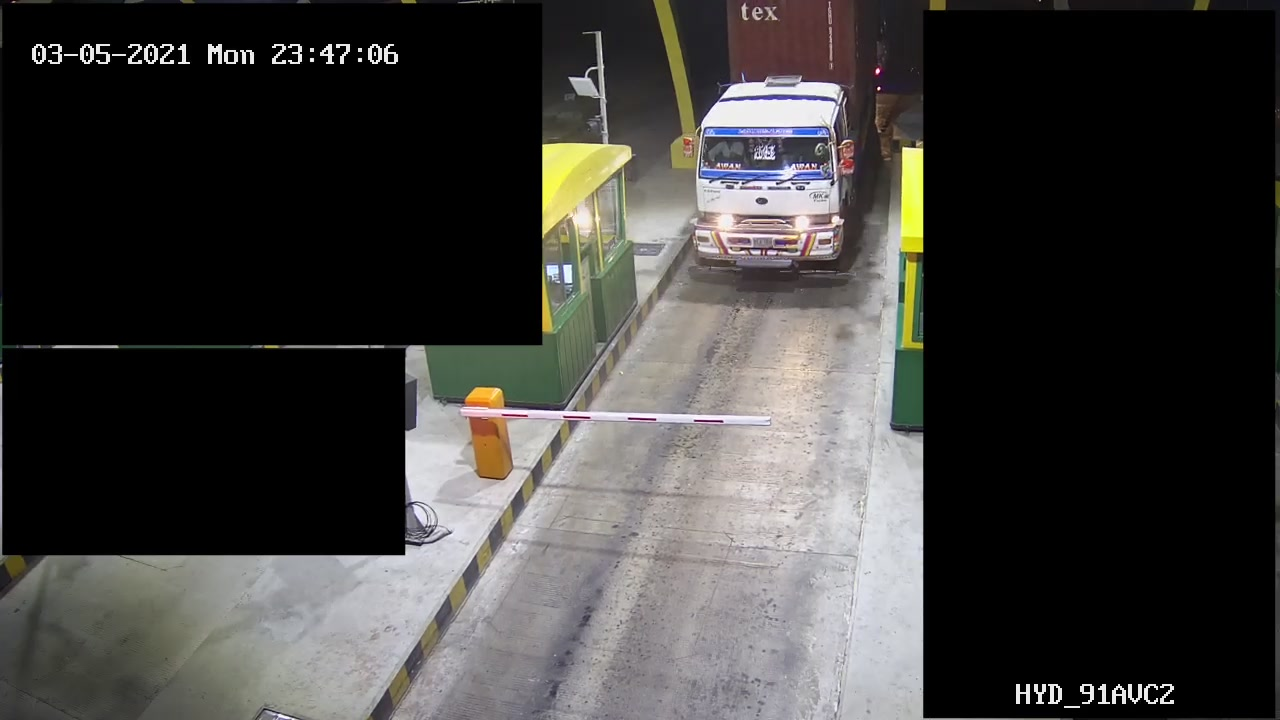F6: (687, 1, 882, 286)
